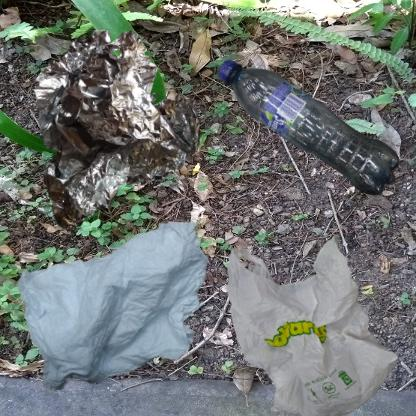aluminio: (10, 10, 230, 249)
bolsa: (213, 213, 416, 416)
botella: (213, 10, 416, 299)
papel: (10, 213, 246, 409)
